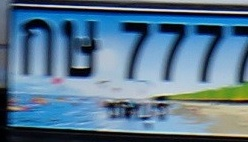txt01: (17, 16, 57, 79)
txt34: (59, 18, 102, 81)
